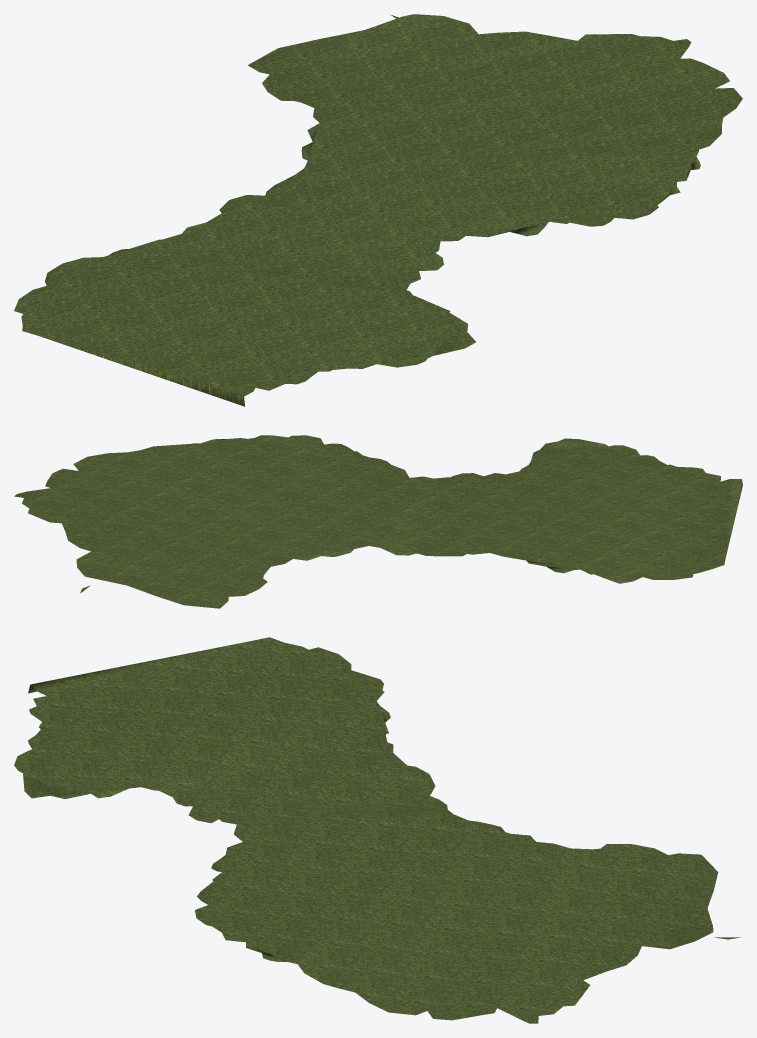
Rendered from grass_low.obj.
3 renders of one model, top to bottom at view 1: azimuth 30°, elevation 25°; view 2: azimuth 150°, elevation 25°; view 3: azimuth 270°, elevation 25°, orthographic. The views are drawn at different scales.
Parts seen in each view (by area): view 1: Low_Grass_04__di_Grass1; view 2: Low_Grass_04__di_Grass1; view 3: Low_Grass_04__di_Grass1.
Boxes of the visible parts, bbox=[...] form: Low_Grass_04__di_Grass1: bbox=[14, 14, 742, 406]; Low_Grass_04__di_Grass1: bbox=[14, 435, 742, 608]; Low_Grass_04__di_Grass1: bbox=[14, 637, 740, 1023].
Bounding box in the file's own units: 113 × 1.94 × 90.85.
